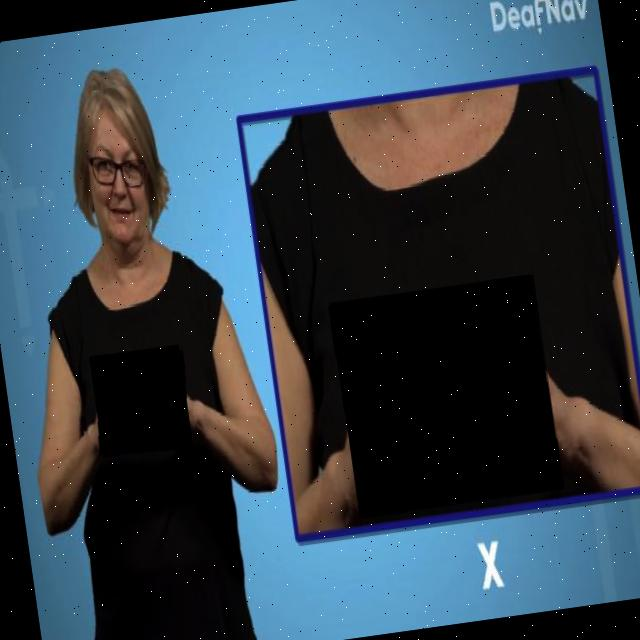X: (331, 276, 566, 520), (89, 345, 196, 461)
